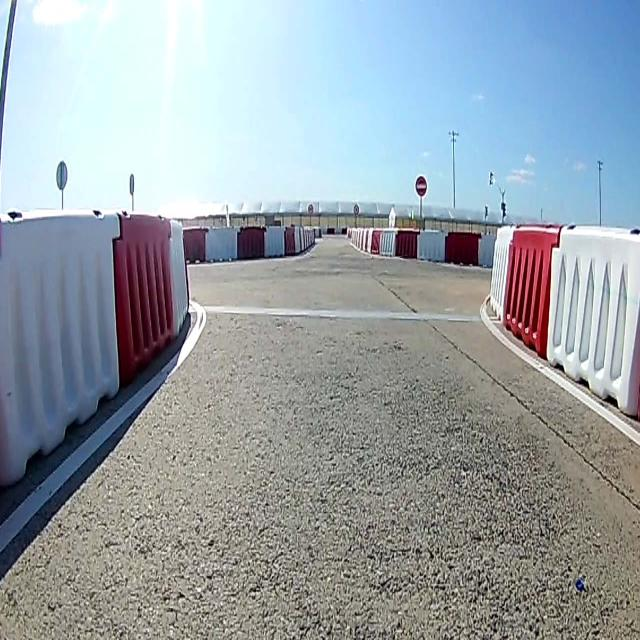girisyok: (415, 174, 427, 198)
